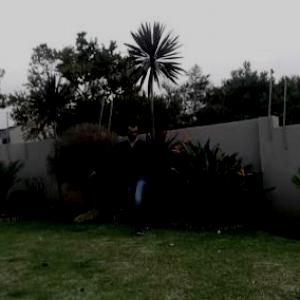land: (88, 111, 189, 240)
